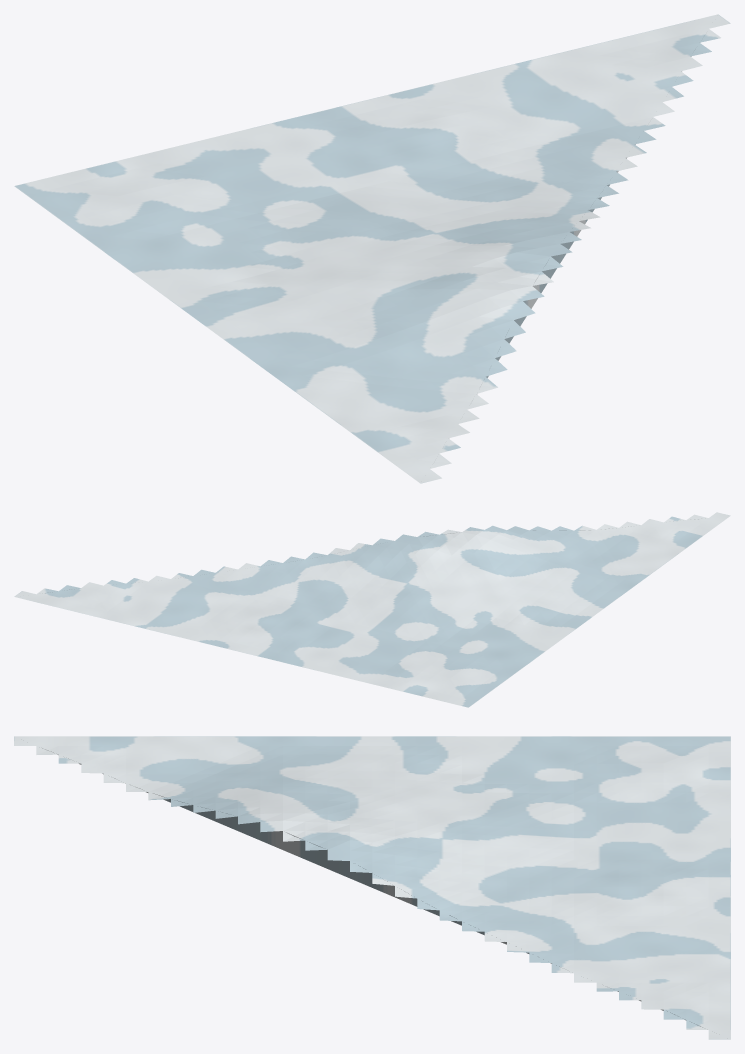
The model's file is Snow_Flat_08_SW.obj.
3 renders of one model, top to bottom at view 1: azimuth 30°, elevation 25°; view 2: azimuth 150°, elevation 25°; view 3: azimuth 270°, elevation 25°, orthographic. The views are drawn at different scales.
Size of the model in its own units: 10 by 0.3075 by 10.
Materials: 1 (1 with a texture image).
